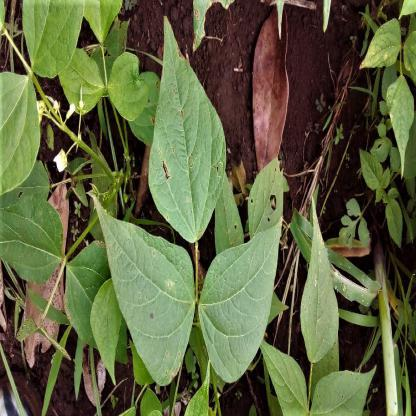Beans_Angular_LeafSpot: (93, 199, 189, 396), (136, 26, 226, 222)
